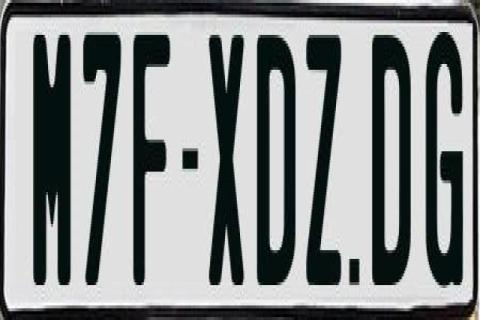0: (81, 26, 121, 282)
D: (256, 26, 298, 288), (371, 29, 411, 297)
F: (132, 27, 170, 280)
G: (426, 29, 464, 303)
M: (30, 26, 70, 294)
X: (206, 27, 244, 280)
Z: (306, 35, 344, 303)
